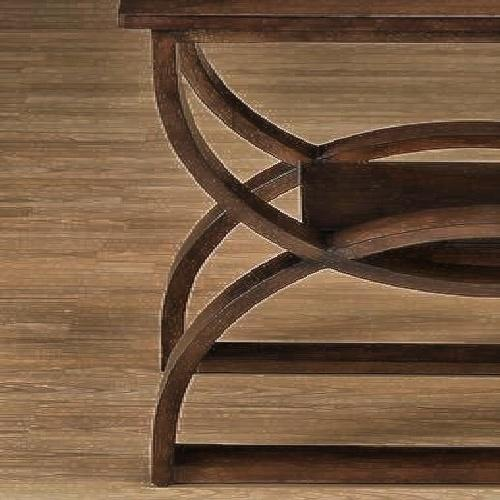table: (133, 17, 487, 467)
